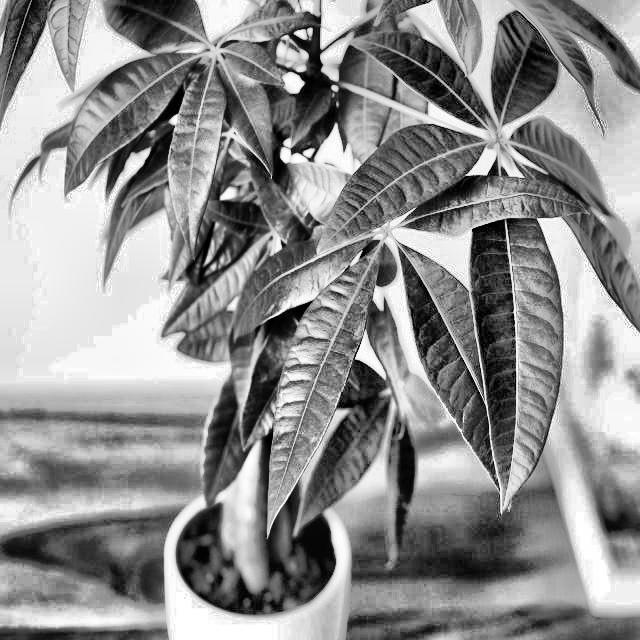plants: (1, 0, 640, 563)
